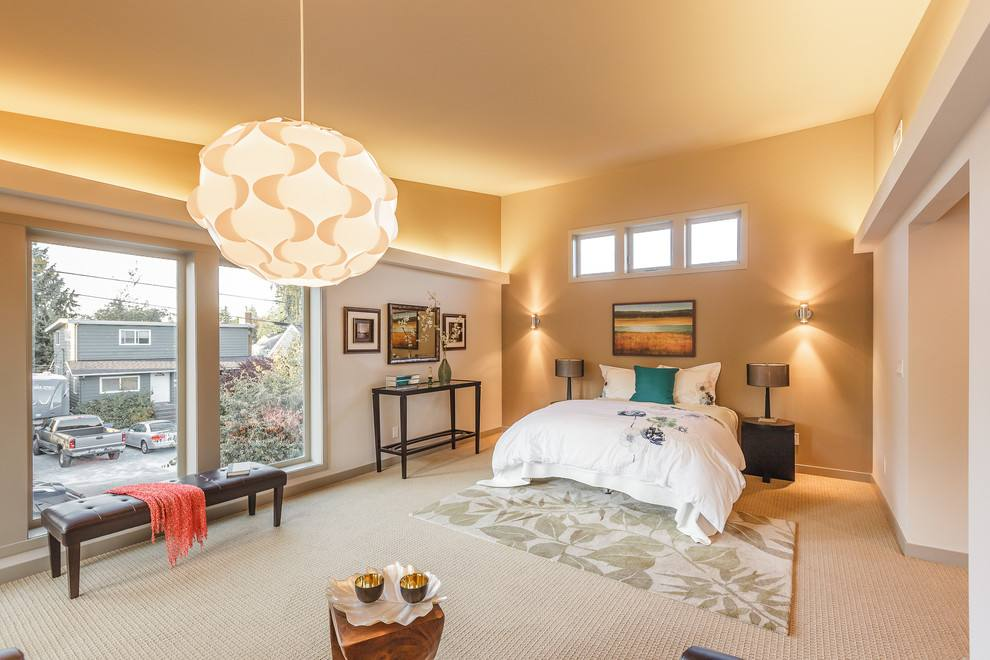床: (482, 390, 744, 532)
枕头: (600, 366, 725, 411)
灯: (184, 47, 399, 289), (739, 364, 788, 429), (548, 355, 585, 405), (789, 301, 824, 332), (522, 308, 545, 340)
